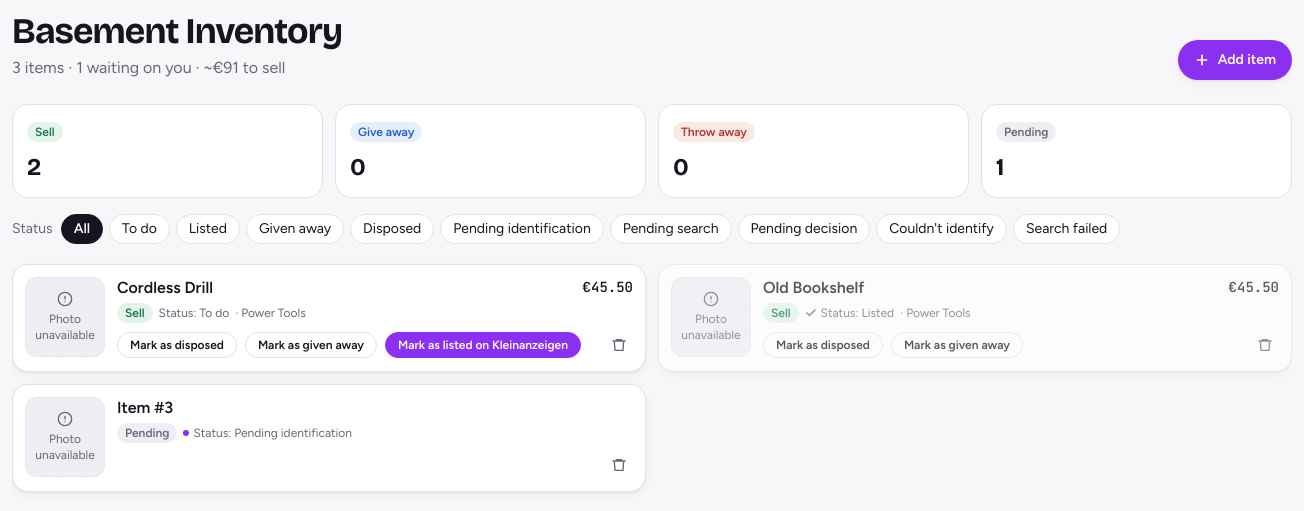
it: InventoryPage › fetches once without query params and filters in memory via tiles and chips
The image size is (1304, 511).
Expected: the link "Cordless Drill" is shown, [117,278,213,297]
Expected: the button "Pending 1" is shown, [981,104,1292,198]
Click the button "Listed" at (208, 229), box [176,214,240,244]
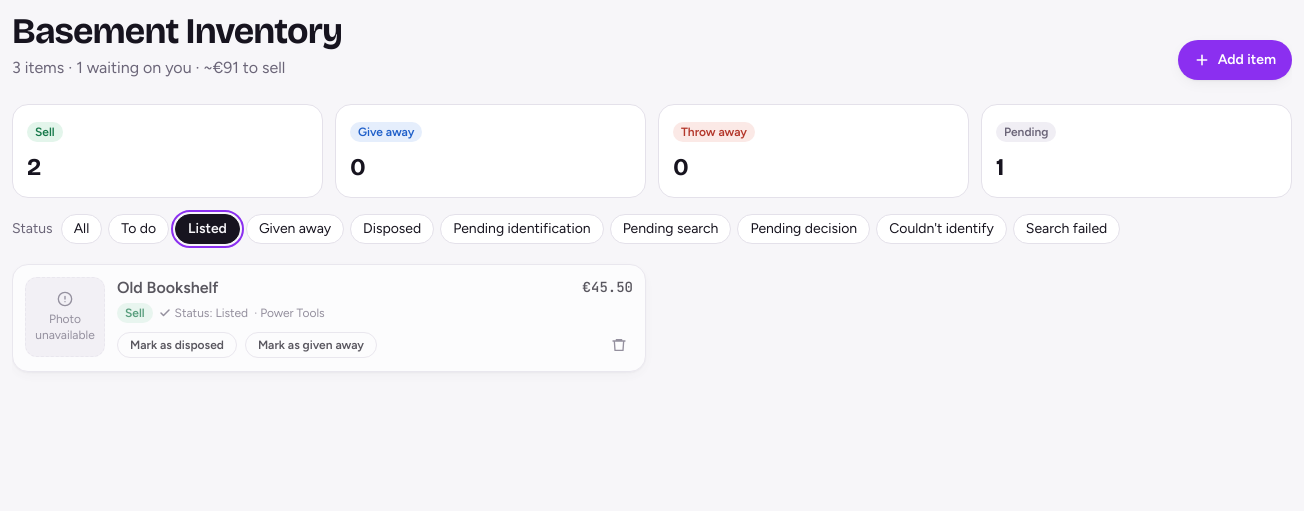
Expected: the link "Old Bookshelf" is shown, [117,278,218,297]
Expected: the link "Cordless Drill" is gone
Click the button "Pending 1" at (1026, 132), box [981,104,1292,198]
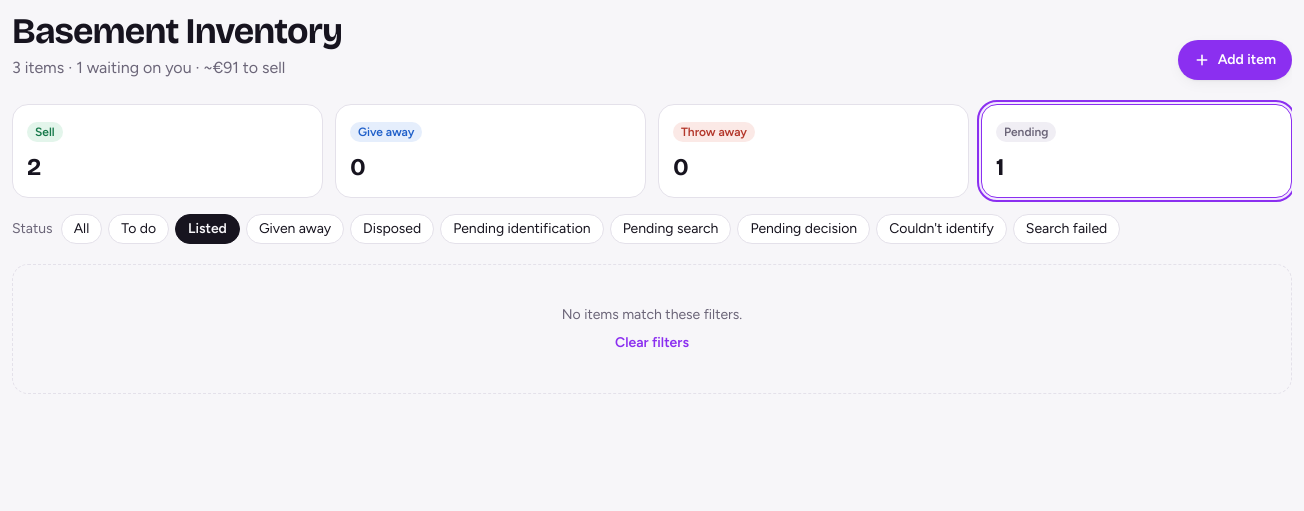
Expected: the text "No items match these filters." is shown, [562,306,742,323]
Click the button "Clear filters" at (652, 343), box [615,333,689,353]
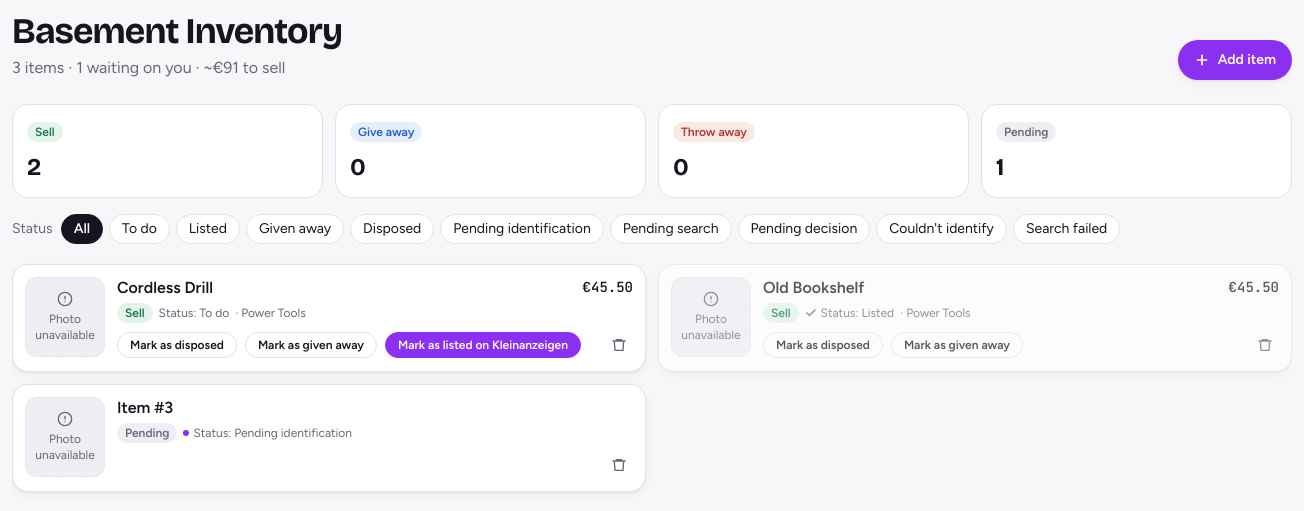
Expected: the link "Cordless Drill" is shown, [117,278,213,297]
Expected: the link "Item #3" is shown, [117,398,173,417]
Click the button "Sell 2" at (45, 132), box [12,104,323,198]
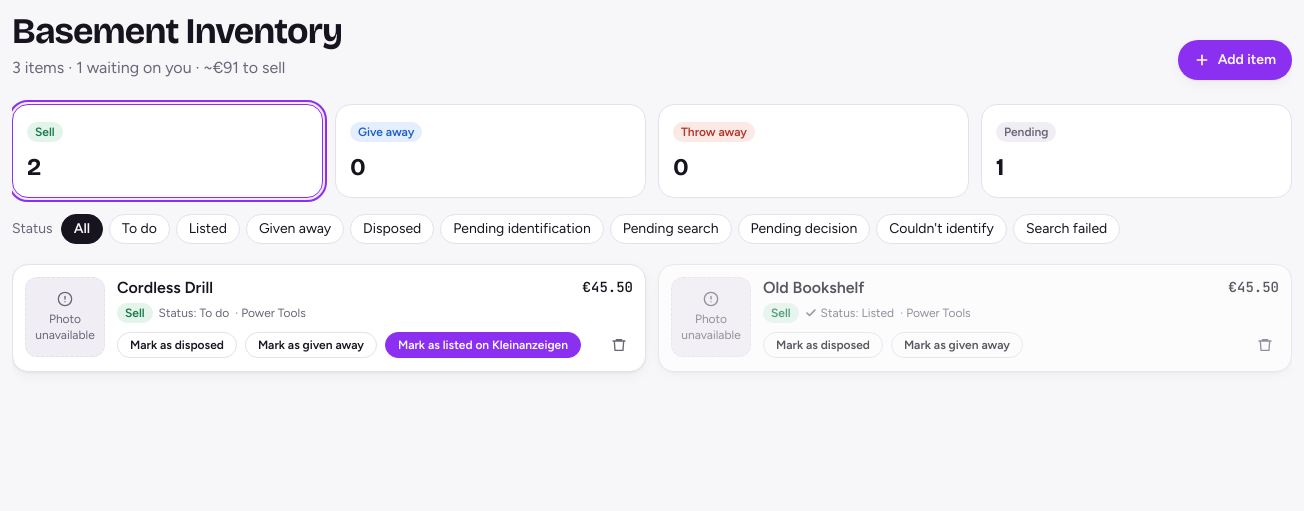
Expected: the link "Item #3" is gone
Click the button "Sell 2" at (45, 132), box [12,104,323,198]
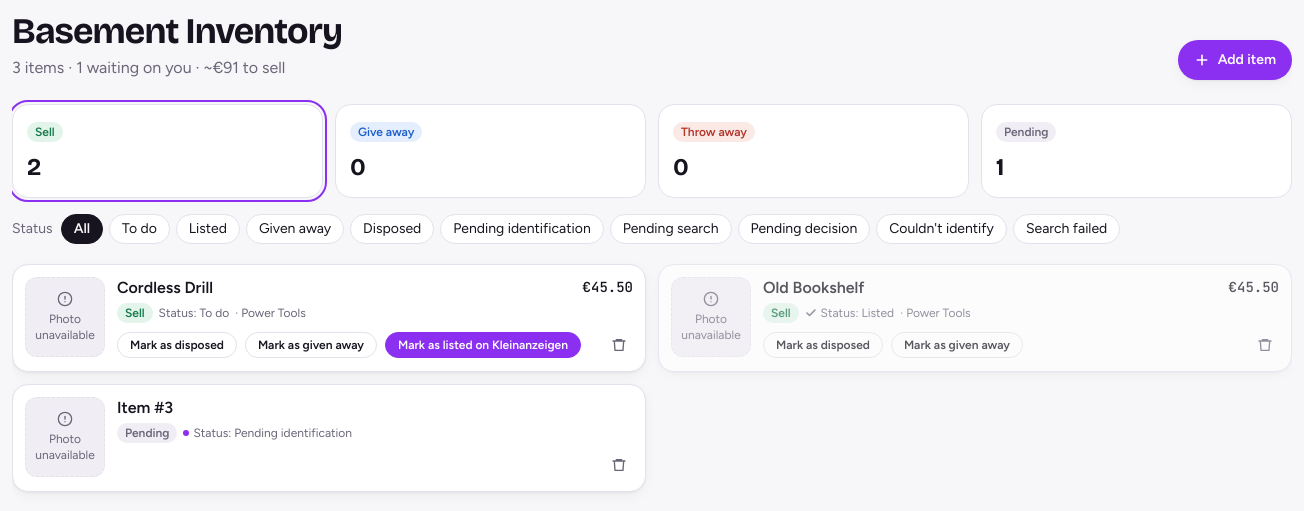
Expected: the link "Item #3" is shown, [117,398,173,417]
